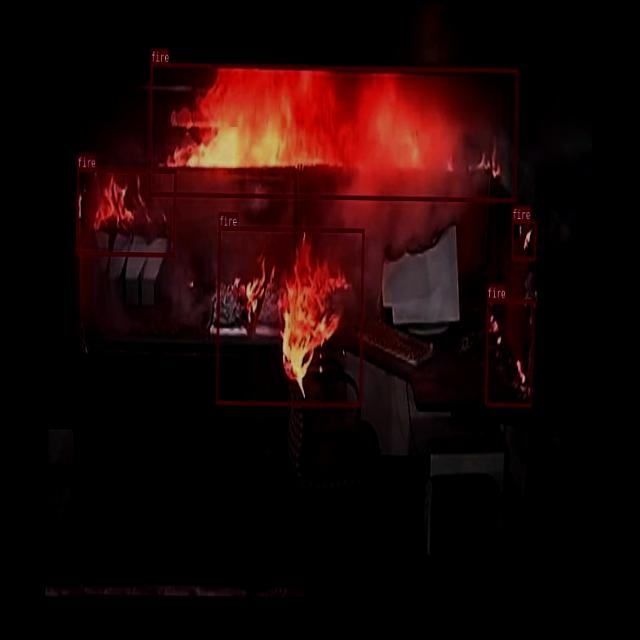fire: (148, 62, 518, 202), (214, 224, 364, 406), (75, 167, 176, 256), (484, 298, 533, 407), (510, 220, 536, 260)
